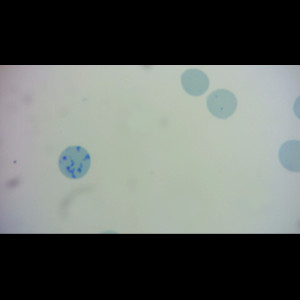aggregate reticulocyte: (56, 145, 92, 181)
erythrocyte: (179, 67, 211, 98)
punctate reticulocyte: (205, 88, 239, 121)
